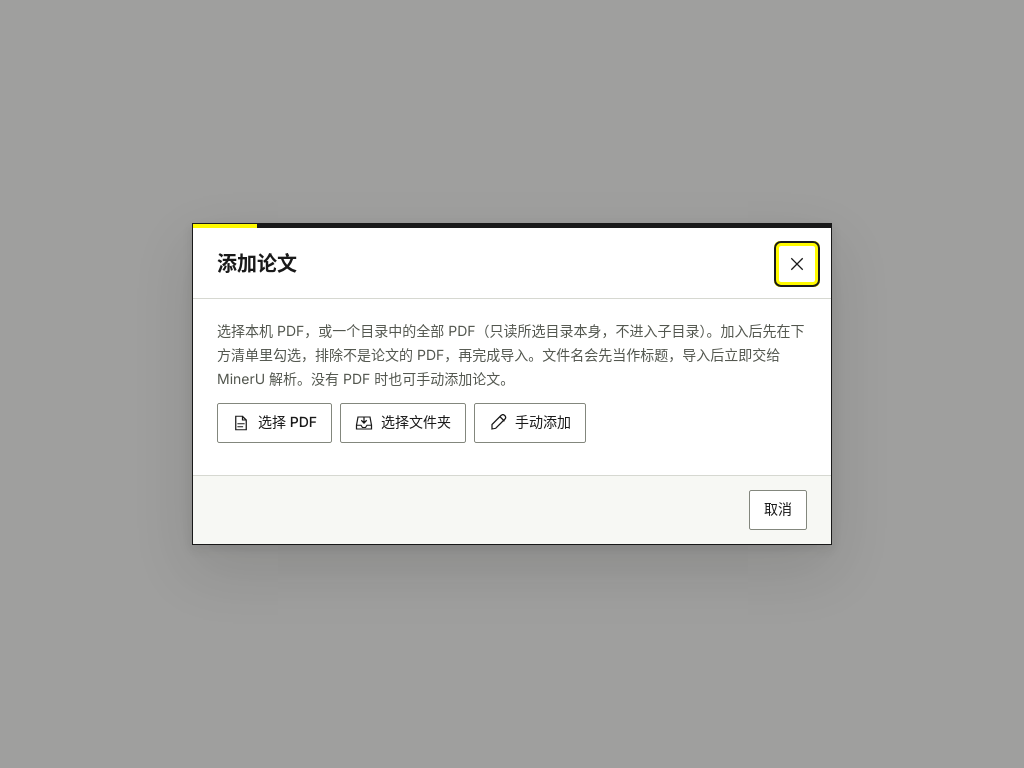
Scenario: PaperDialog · 单篇导入 › 已入库路径标记「已在库中」且不计入导入数
Click the button "选择 PDF".
click(275, 423)  # box 217,403 -> 332,443
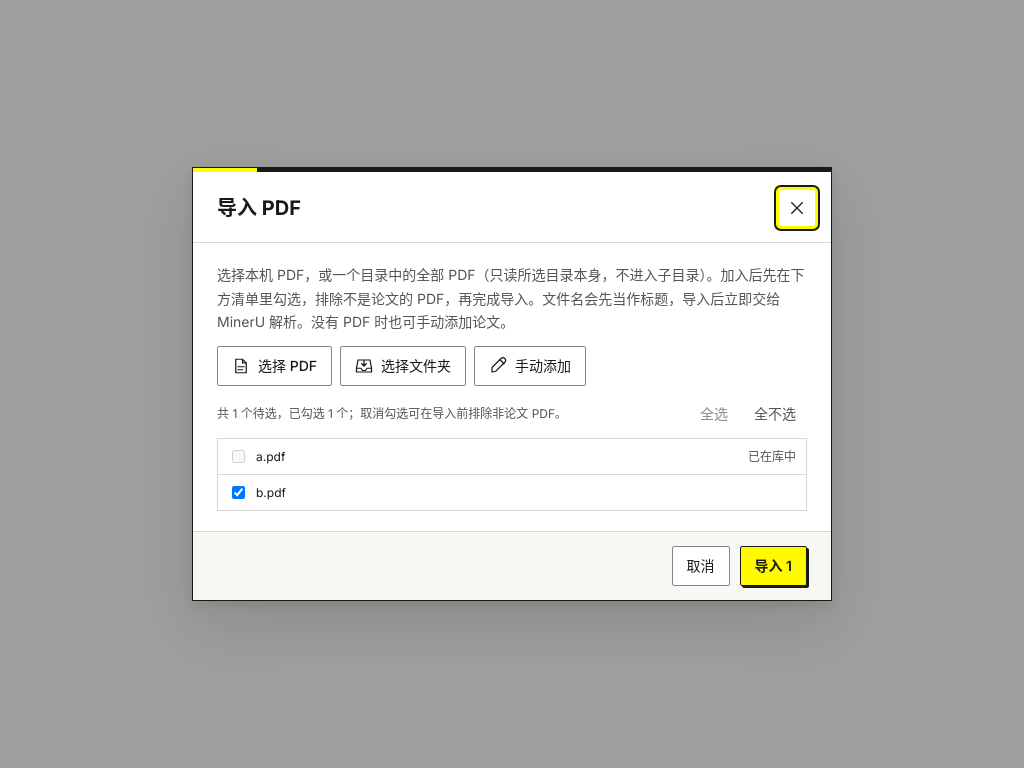
expect the text "a.pdf" is shown: met, box 256,448 -> 285,466
expect the text "已在库中" is shown: met, box 748,448 -> 796,466
expect the button "导入 1" is enabled: met, box 740,546 -> 807,586
